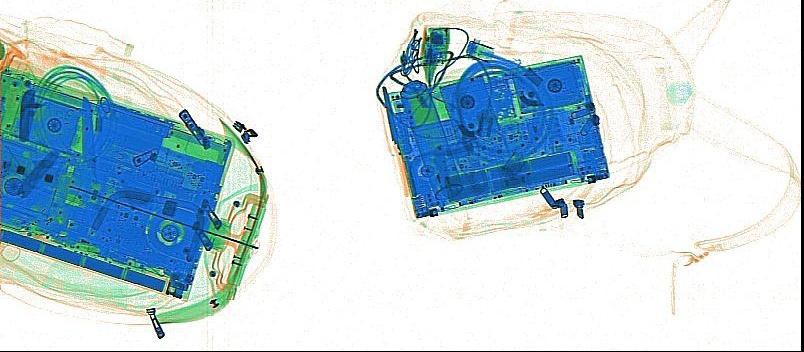knife: (381, 84, 416, 197), (79, 92, 102, 225), (16, 148, 59, 199), (18, 88, 36, 141)
pressure: (399, 79, 464, 200)
